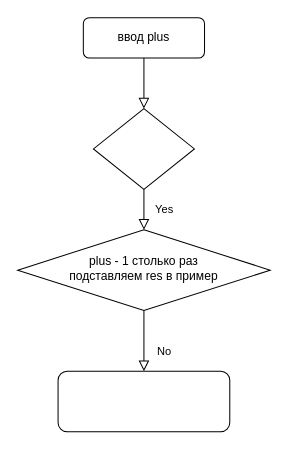
This 288x449 diagram has some shape labels left out. Each missing label, with the centre of its shape:
"res = 1 +1/res округляем выводим строку" belongs at [143,401].
"задаем res res = 1+1" belongs at [143,148].
